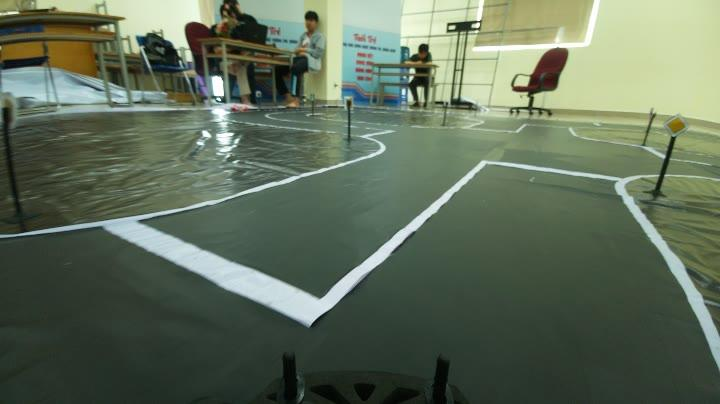priority: (660, 112, 688, 138)
